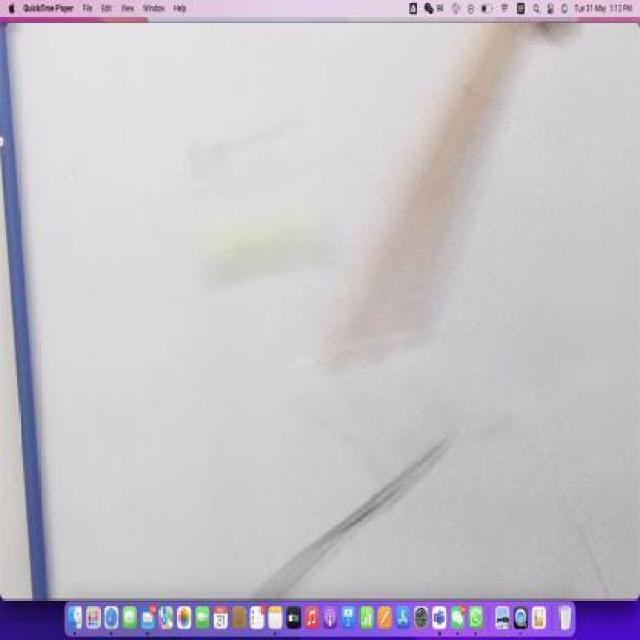baseball: (198, 206, 332, 285)
